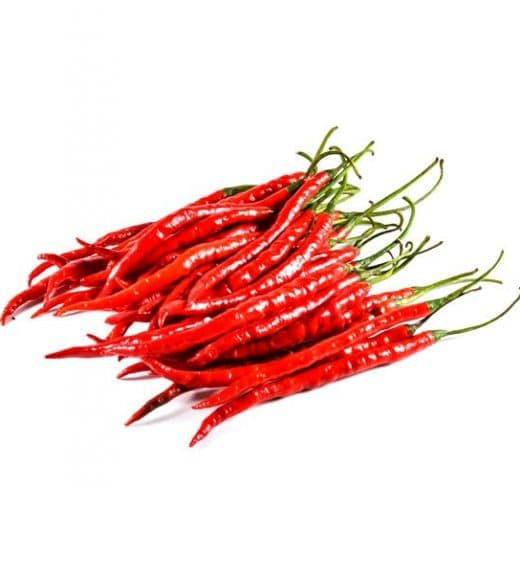Cabai: (34, 140, 503, 476)
